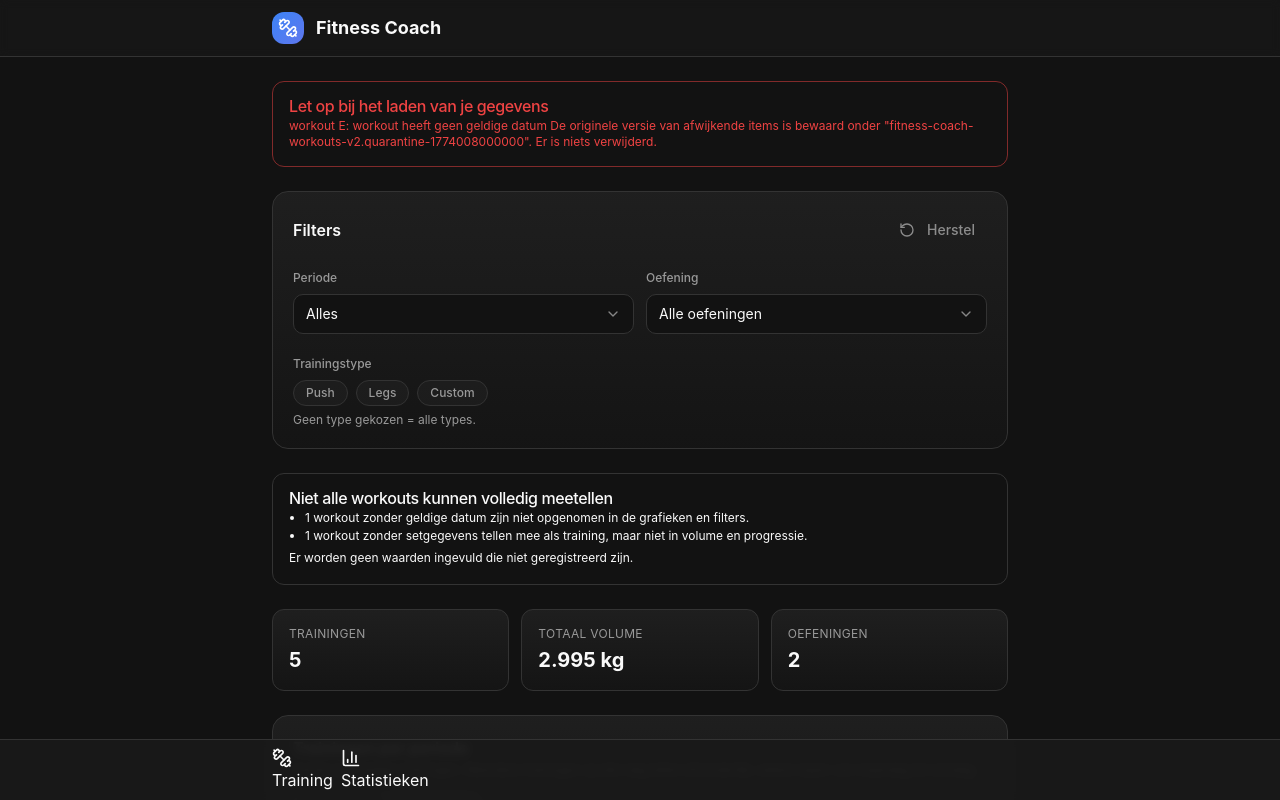
Test case: vooruitgang t.o.v. vorige sessie en historiek › vergelijkt per oefening met de vorige sessie en benoemt gemengde uitkomsten
Click the button "Push": (320, 393) [293,380,348,406]
(page scrolled)
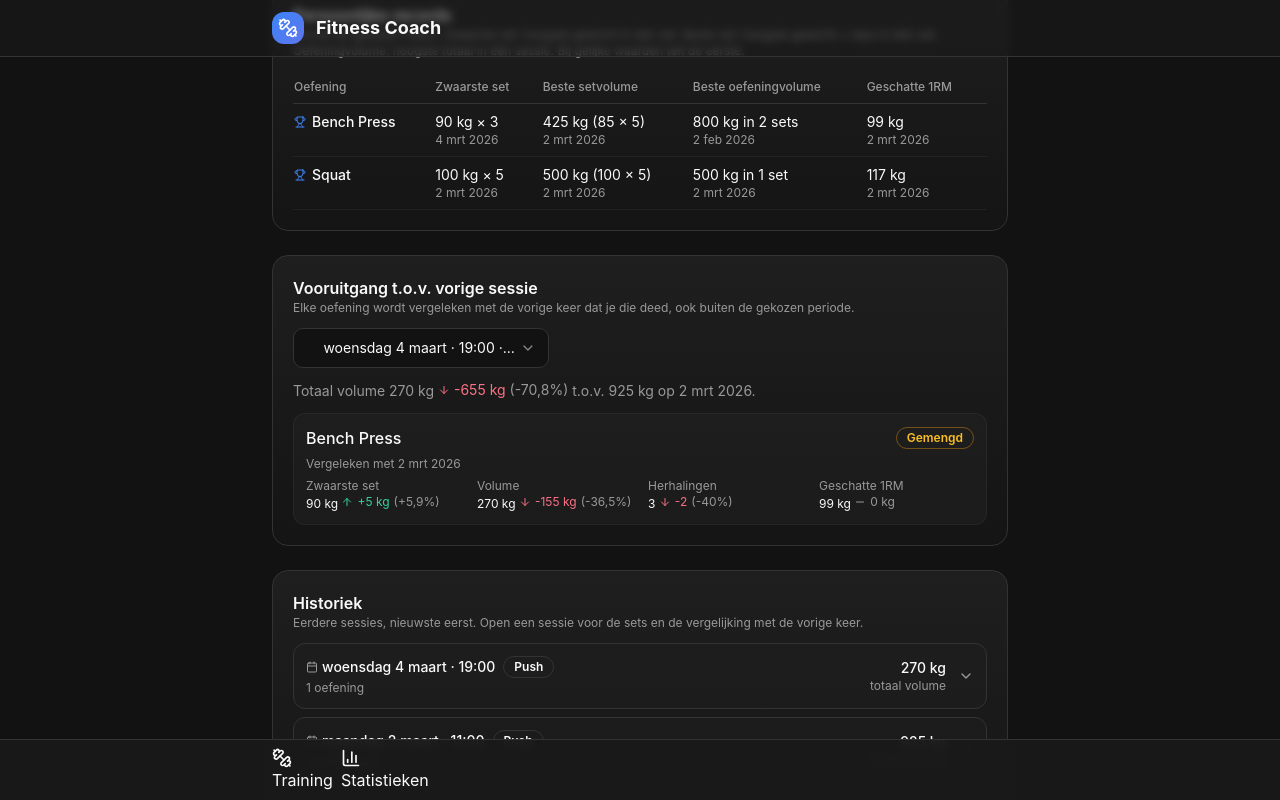
Now the text "Gemengd" is shown, box [896,426,974,448]
Now the text "Vergeleken met 2 mrt 2026" is shown, box [306,456,461,470]
Now the element named "vooruitgang ten opzichte van de vorige sessie" shows "+5 kg", box [272,254,1008,546]
